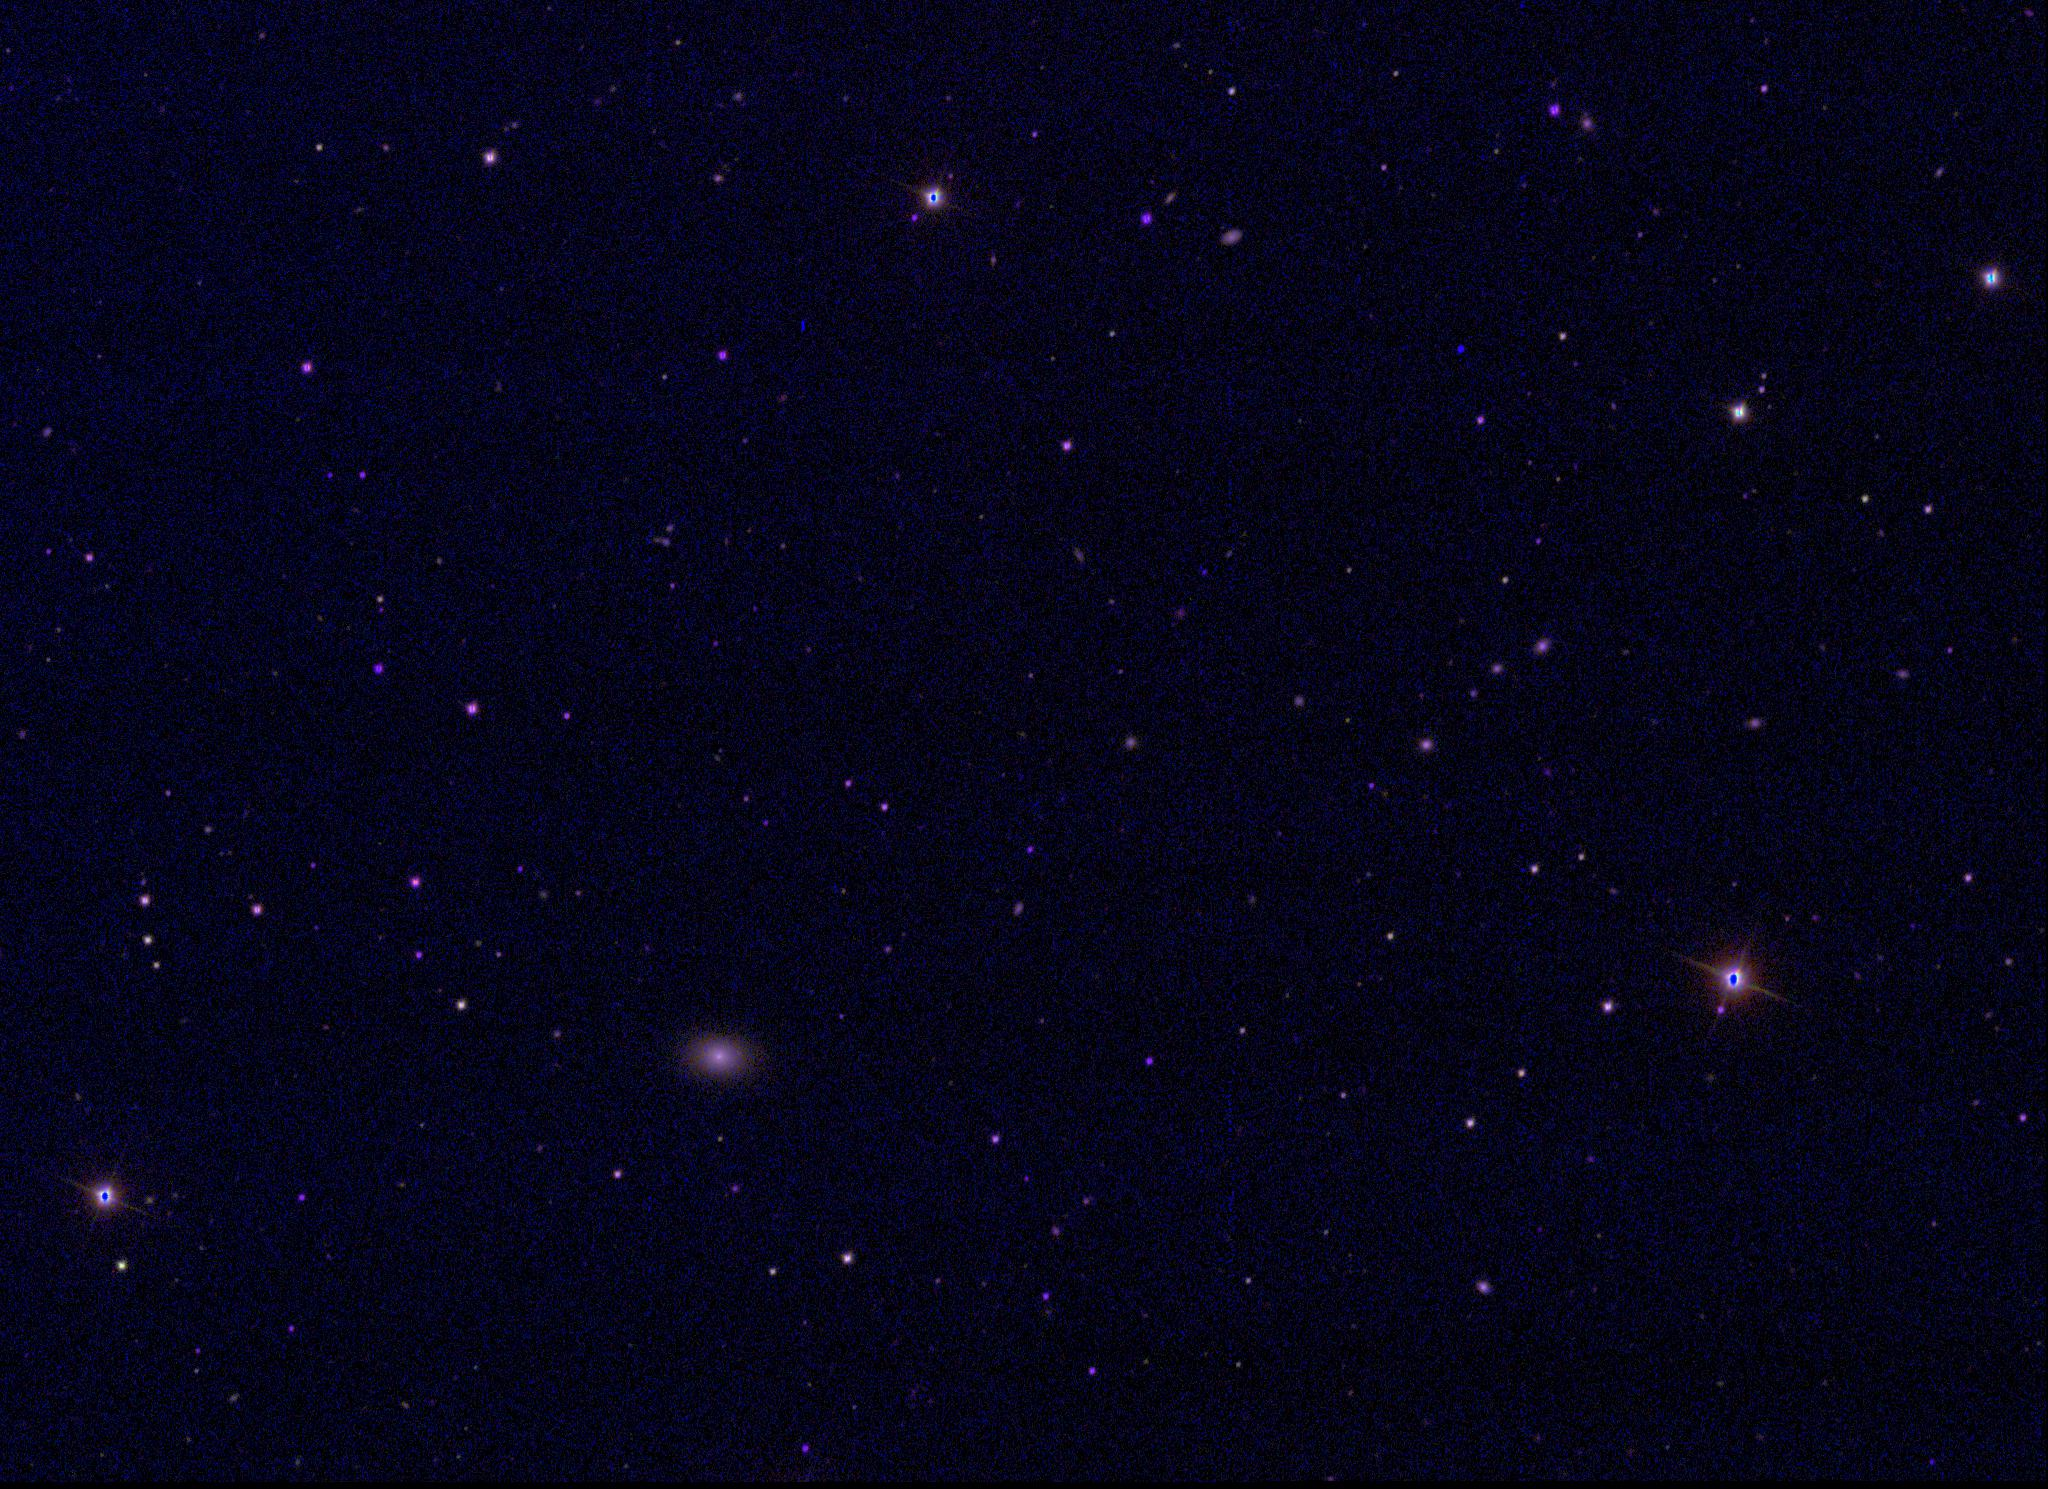L: (1453, 342, 1468, 356)
